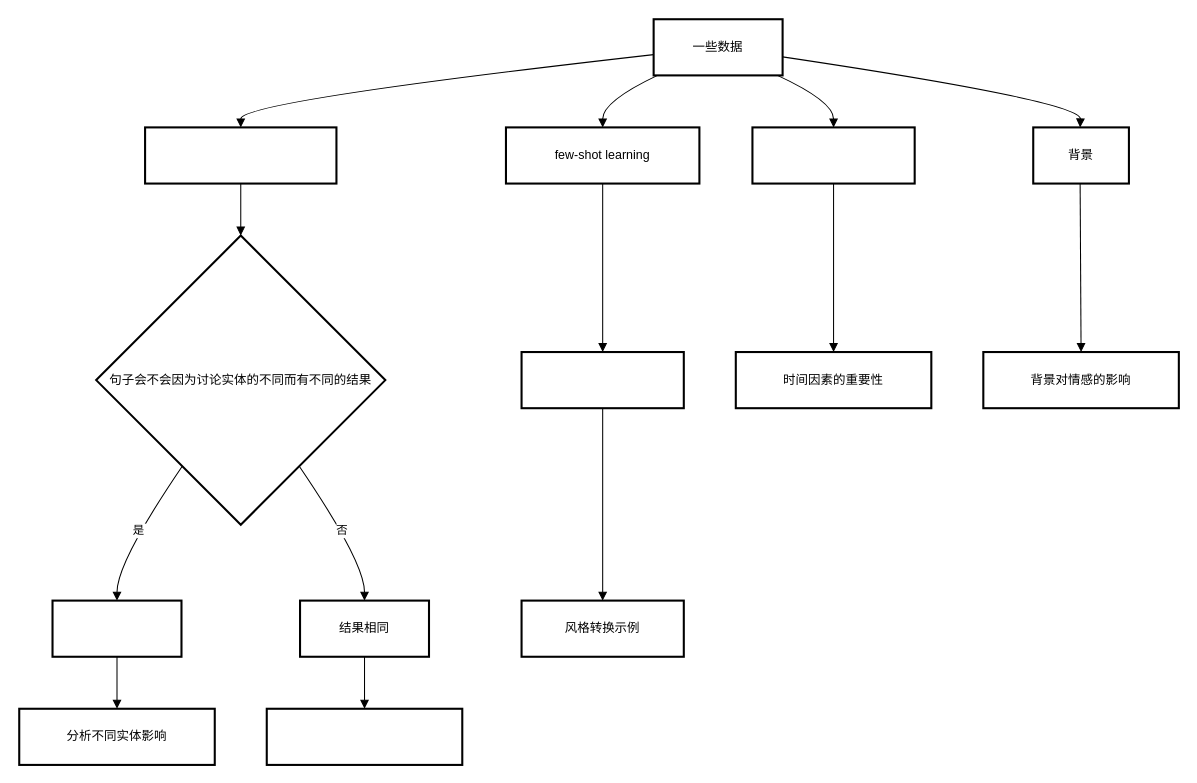
The diagram is 1197 pixels wide and 783 high, and some of its shapes have lost their labels. Each missing label, with the centre of its shape:
NER命名实体替换: [240,155]
改变句子风格: [602,379]
替换句子时间: [833,155]
结果不同: [116,628]
讨论实体影响有限: [364,736]
